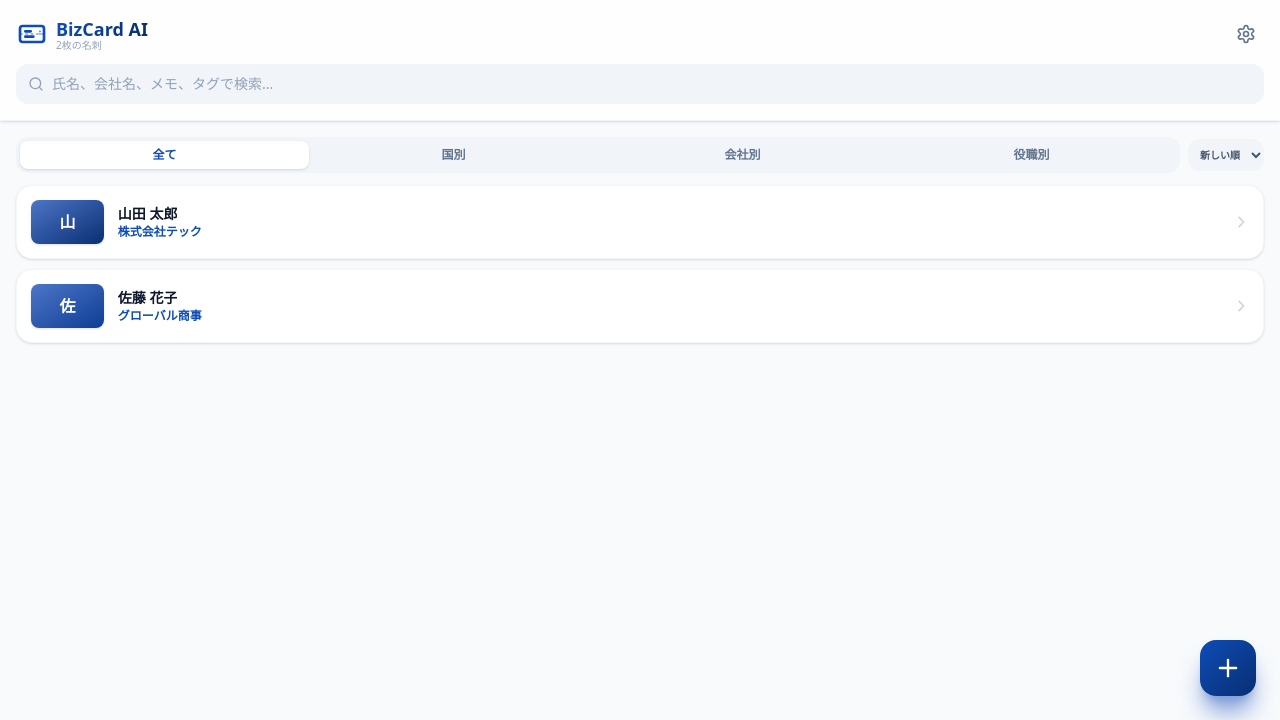
Test: CardListView 検索 › メールアドレスで絞り込める
Type "hanako@" into the field with placeholder "氏名、会社名、メモ、タグで検索..." at (640, 84), box x1=16 y1=64 x2=1264 y2=104
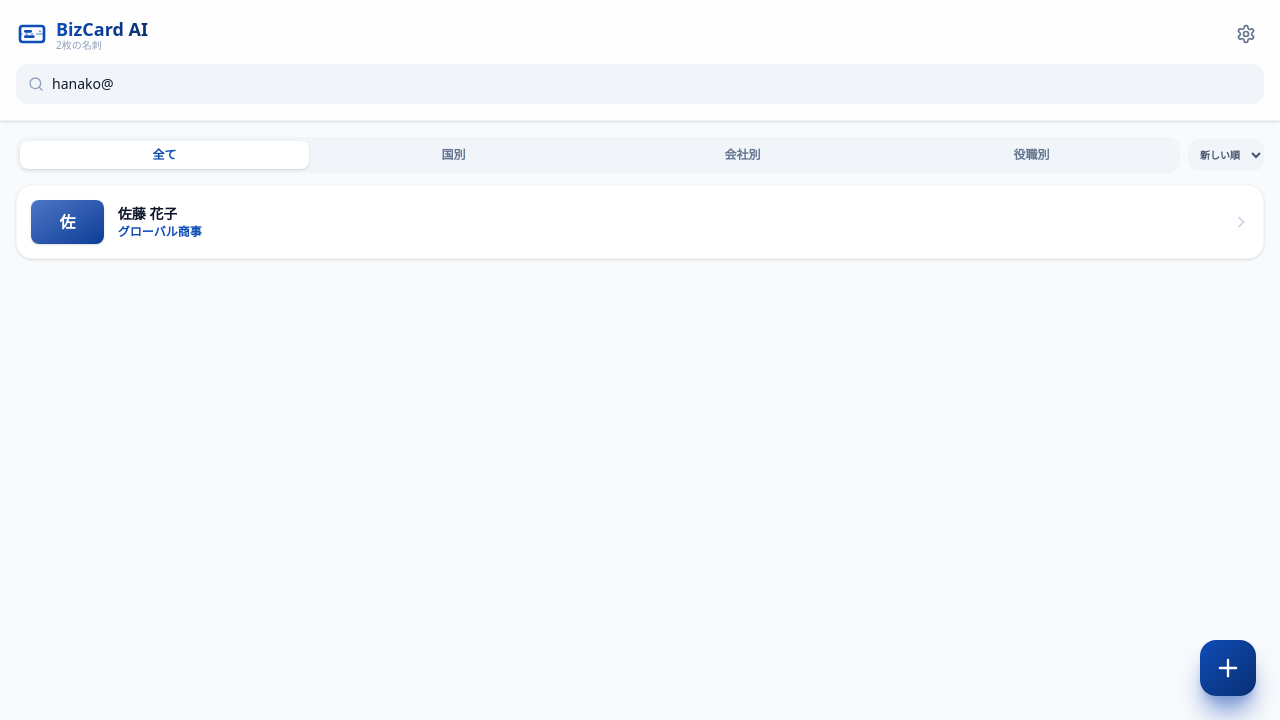
expect the heading "佐藤 花子" is shown: met, box x1=118 y1=205 x2=177 y2=222
expect the button "山田 太郎" is gone: met
